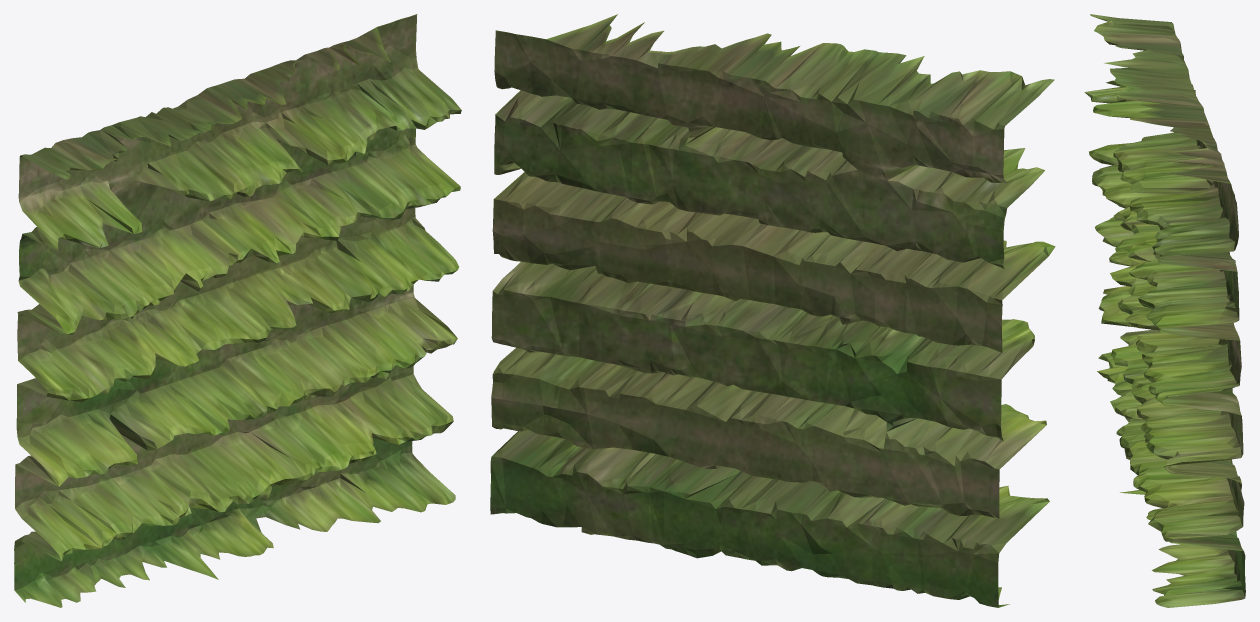
The model's file is map_30_50.obj.
3 renders of one model, left to right at view 1: azimuth 30°, elevation 25°; view 2: azimuth 150°, elevation 25°; view 3: azimuth 270°, elevation 25°, orthographic. The views are drawn at different scales.
Visible parts, largest first — view 1: grp1; view 2: grp1; view 3: grp1.
Part boxes in pixels (x1=…): grp1: x1=14, y1=14, x2=461, y2=607; grp1: x1=490, y1=14, x2=1055, y2=607; grp1: x1=1084, y1=14, x2=1245, y2=607.
Size of the model in its own units: 10 by 10 by 3.62.
Materials: 1 (1 with a texture image).
